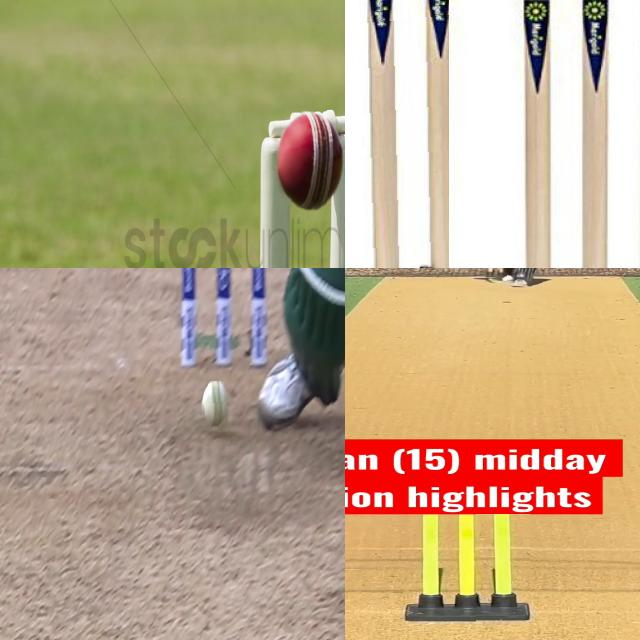Cricket ball: (277, 109, 345, 216), (202, 381, 228, 429), (501, 276, 514, 284)
Stumps: (516, 0, 640, 268), (345, 0, 449, 268), (408, 514, 530, 624)
